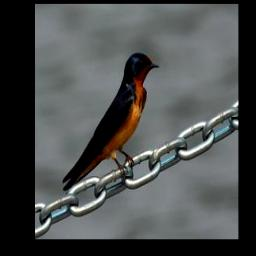Swallow: (62, 52, 161, 194)
